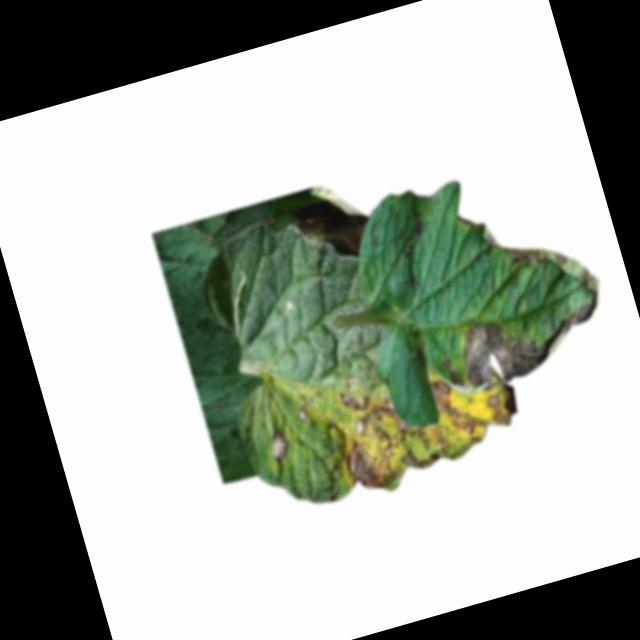Early_blight: (327, 350, 524, 502), (434, 291, 607, 399), (480, 195, 604, 315), (285, 175, 374, 271), (266, 424, 293, 458)
